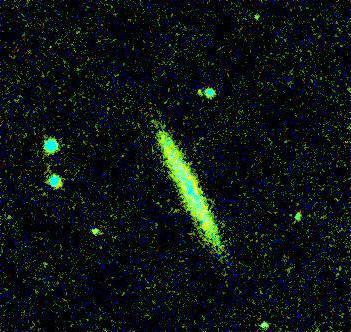star: (185, 73, 215, 103)
